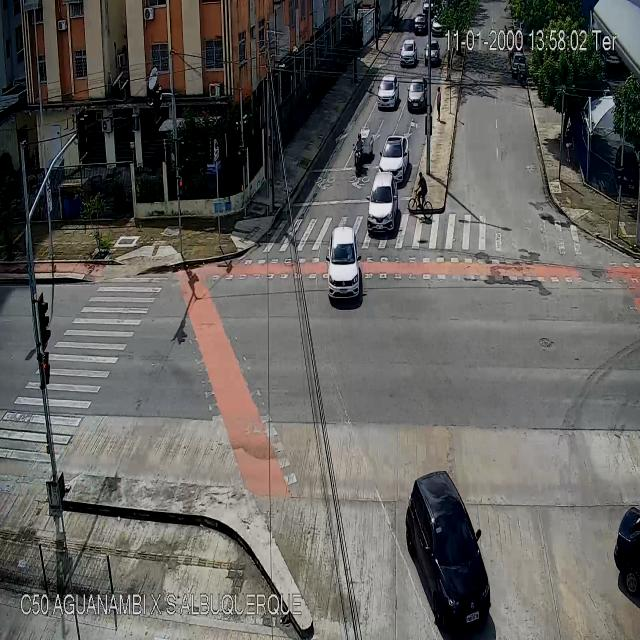Car: (405, 472, 491, 628), (595, 480, 640, 622), (325, 223, 361, 304), (366, 172, 398, 232), (378, 134, 410, 179), (378, 75, 398, 110), (406, 81, 425, 112), (424, 41, 441, 68), (400, 38, 416, 66), (432, 15, 446, 37), (512, 53, 524, 74), (414, 14, 425, 33)
Motorcycle: (353, 134, 364, 179), (516, 63, 524, 83)
